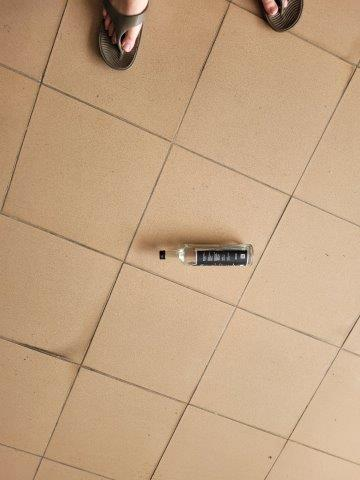botolkaca: (159, 242, 255, 268)
